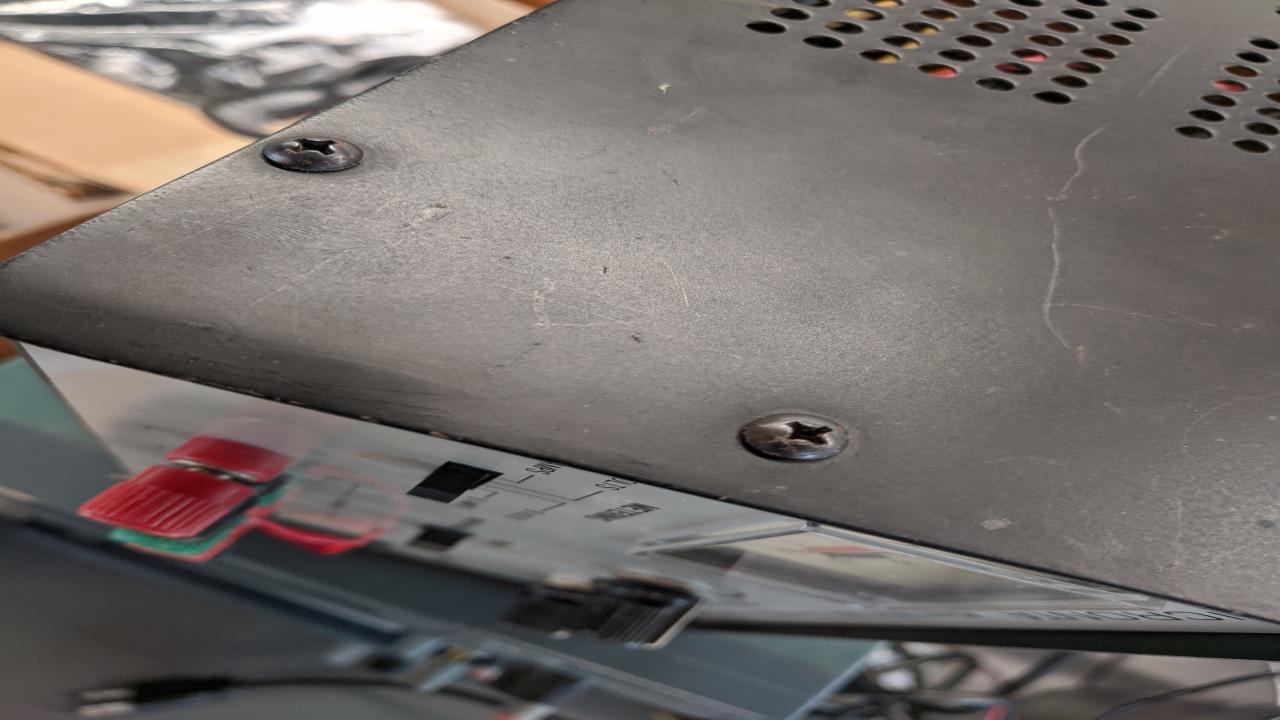CRS: (747, 412, 852, 462), (258, 135, 365, 173)
